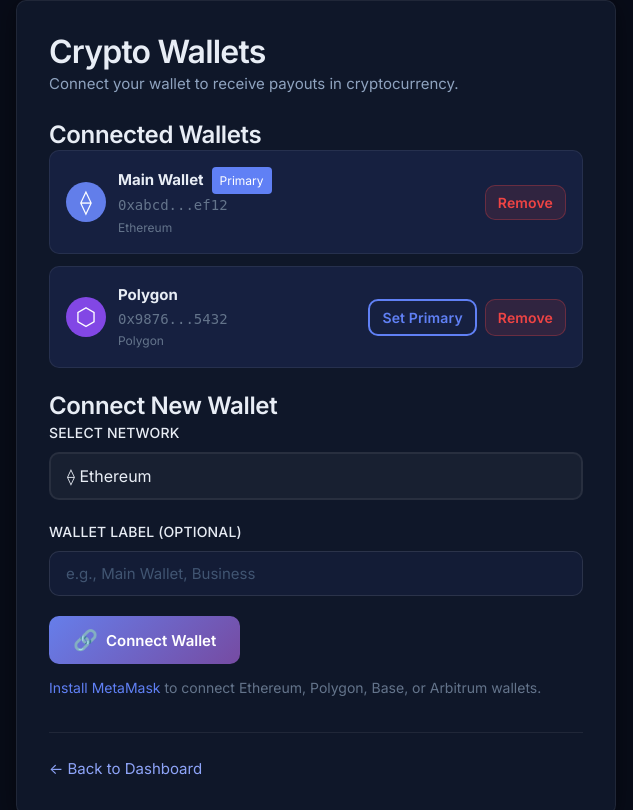
Scenario: WalletConnect › set primary › shows error on set primary failure
Click the button "Set Primary": (423, 317) [368,299,477,336]
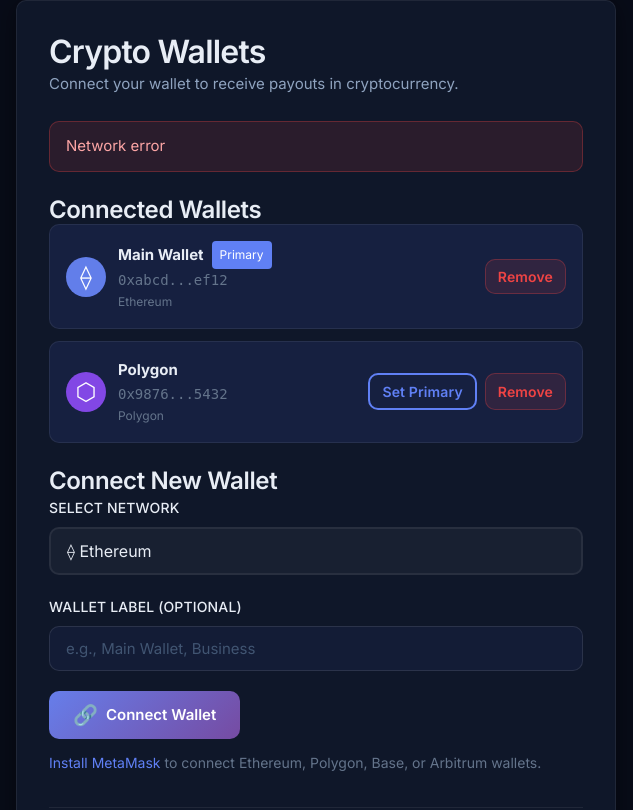
expect the text "Network error" is shown: met, box [49,121,583,172]
